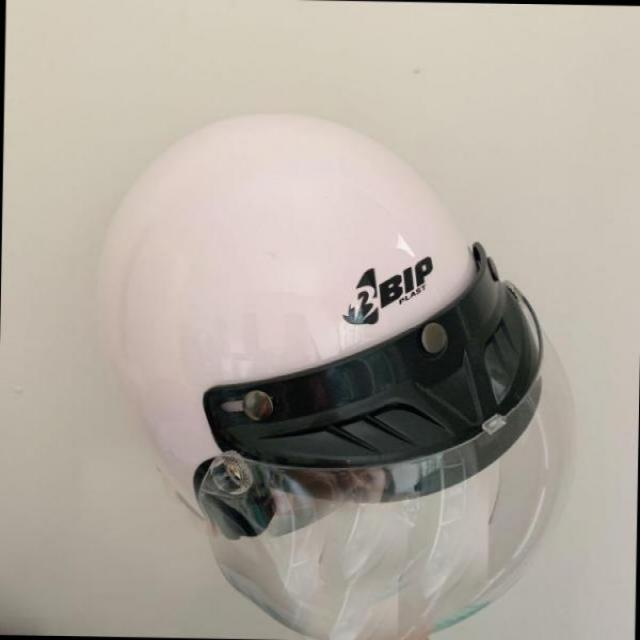Helmet: (94, 142, 581, 582)
